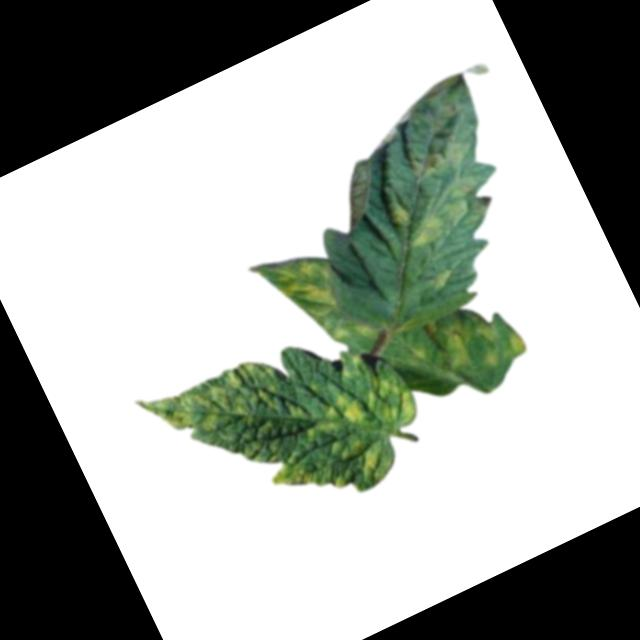Leaf_Mold: (135, 292, 439, 559), (368, 125, 503, 255), (249, 232, 362, 361), (422, 290, 530, 393), (424, 262, 460, 297)
